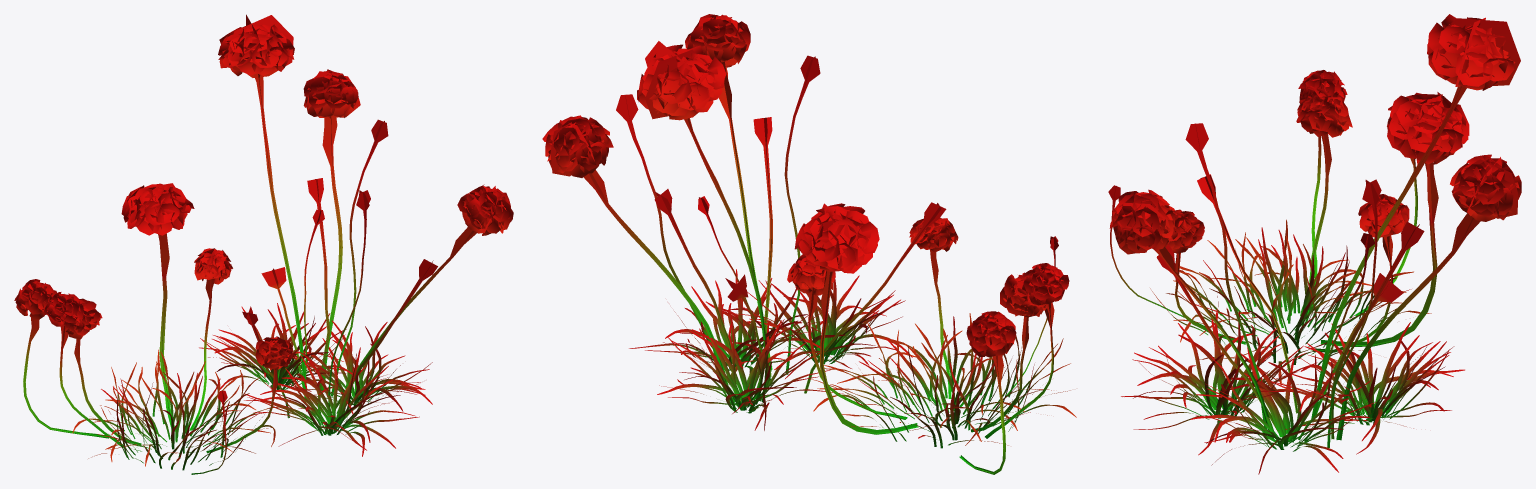
File: Var6_LOD0.fbx
3 views of the same model, side by side, from view 1: azimuth 30°, elevation 25°; view 2: azimuth 150°, elevation 25°; view 3: azimuth 270°, elevation 25° (orthographic). The views are drawn at different scales.
Parts seen in each view (by area): view 1: _bz0t_Var6_LOD0; view 2: _bz0t_Var6_LOD0; view 3: _bz0t_Var6_LOD0.
Part boxes in pixels (box(x1,y1,x2,y2)): _bz0t_Var6_LOD0: box(14, 14, 513, 474); _bz0t_Var6_LOD0: box(542, 14, 1076, 474); _bz0t_Var6_LOD0: box(1108, 14, 1521, 474).
Size of the model in its own units: 24.69 by 20.58 by 18.13.
